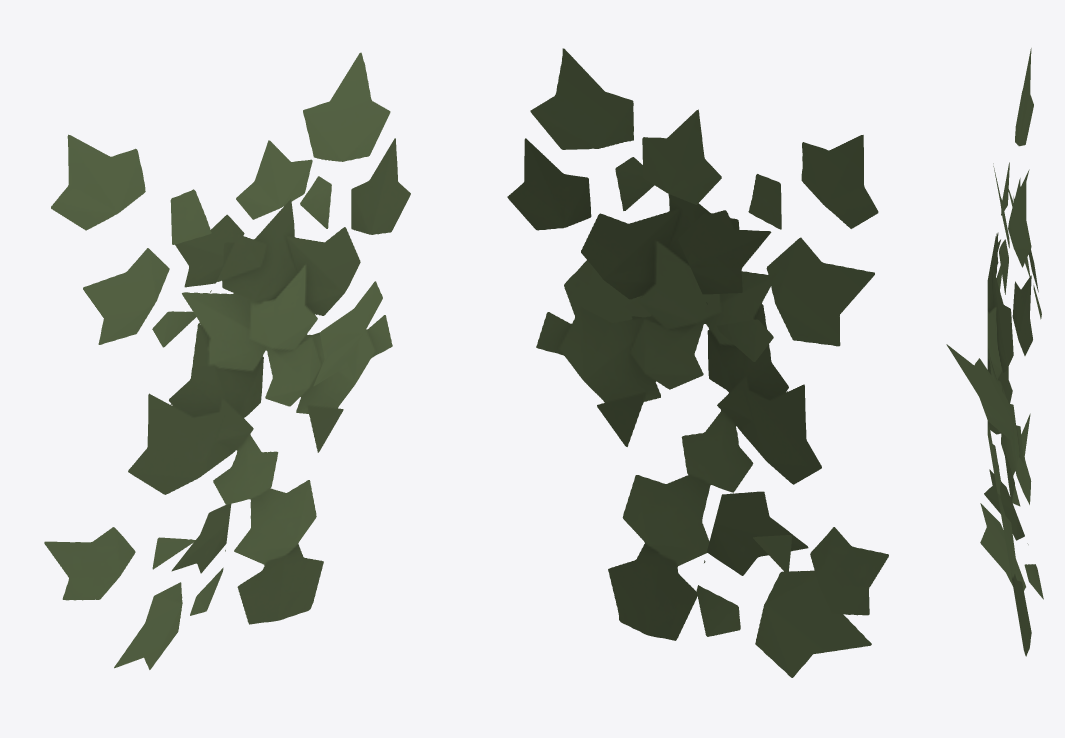
Rendered from SM_Env_Vines_05.fbx.
3 renders of one model, left to right at view 1: azimuth 30°, elevation 25°; view 2: azimuth 150°, elevation 25°; view 3: azimuth 270°, elevation 25°, orthographic. The views are drawn at different scales.
Parts seen in each view (by area): view 1: SM_Env_Vines_05; view 2: SM_Env_Vines_05; view 3: SM_Env_Vines_05.
Boxes of the visible parts, bbox=[...] form: SM_Env_Vines_05: bbox=[44, 52, 410, 669]; SM_Env_Vines_05: bbox=[507, 48, 888, 677]; SM_Env_Vines_05: bbox=[946, 48, 1043, 656].
Bounding box in the file's own units: 127 × 177 × 29.61.
